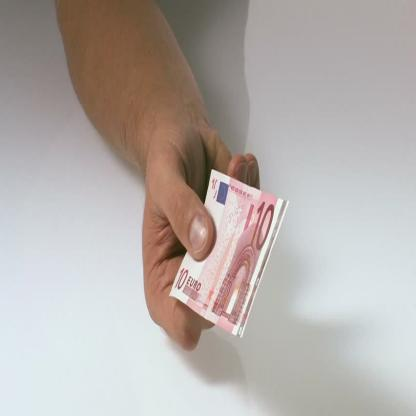billete: (167, 164, 290, 340)
